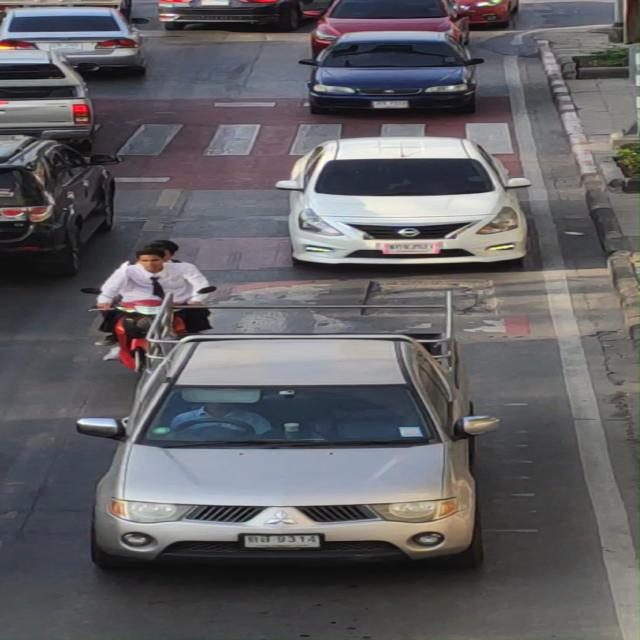car: (71, 285, 501, 580), (286, 124, 558, 274), (281, 26, 515, 120)
